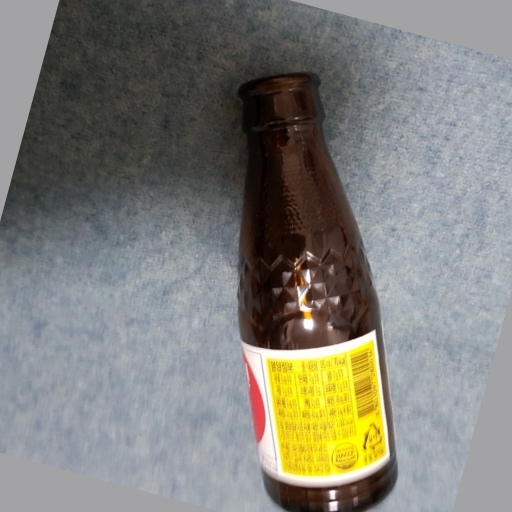Glass_3: (231, 67, 400, 512)
